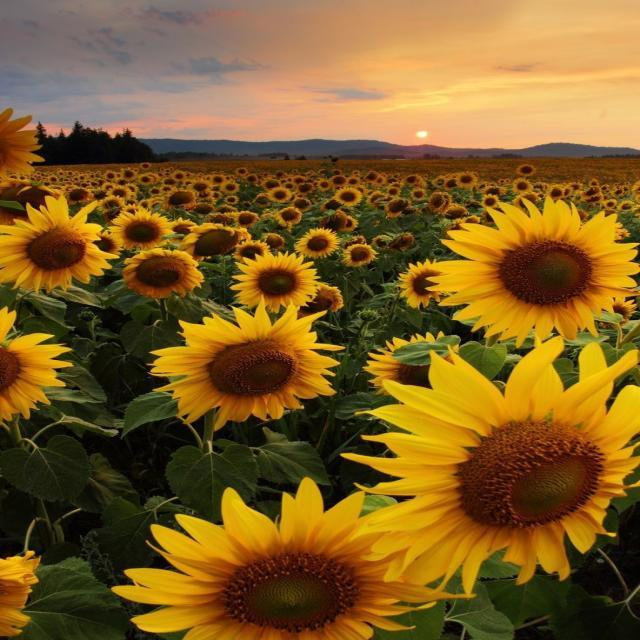sunflower: (339, 336, 639, 594), (110, 476, 477, 640), (425, 196, 638, 346), (146, 294, 345, 431), (0, 194, 119, 294), (0, 306, 73, 422), (362, 330, 460, 395), (228, 250, 320, 310), (120, 247, 204, 299), (0, 550, 41, 636), (0, 178, 66, 226), (0, 106, 44, 177), (108, 207, 176, 250), (179, 222, 251, 260), (394, 258, 447, 308), (294, 280, 344, 318), (293, 226, 339, 258), (596, 296, 638, 328), (232, 239, 270, 262), (340, 244, 378, 266), (162, 188, 196, 212), (168, 217, 198, 243), (332, 186, 362, 206), (275, 206, 302, 228), (95, 194, 126, 212), (323, 210, 348, 232), (512, 192, 542, 210), (64, 188, 95, 205), (442, 217, 466, 238), (233, 210, 259, 229), (384, 198, 408, 218), (106, 184, 134, 201), (390, 233, 415, 251), (480, 206, 505, 224), (454, 170, 479, 188), (266, 186, 291, 202), (263, 232, 285, 250), (187, 178, 214, 192), (511, 177, 533, 194), (206, 212, 232, 226), (426, 192, 444, 212), (342, 236, 365, 250), (320, 199, 344, 212), (342, 215, 359, 232), (444, 206, 468, 218), (191, 202, 213, 215), (120, 203, 146, 214), (292, 197, 311, 212), (372, 235, 392, 249), (516, 163, 536, 177), (254, 192, 272, 207), (482, 186, 506, 197), (366, 191, 386, 204), (614, 228, 632, 242), (374, 196, 392, 210), (294, 182, 312, 196), (330, 174, 348, 188), (219, 182, 240, 194), (194, 190, 215, 202), (581, 194, 605, 204), (262, 179, 282, 191), (481, 194, 498, 208), (443, 176, 460, 190), (548, 187, 566, 200), (208, 173, 226, 186), (213, 204, 238, 213), (409, 188, 426, 201), (600, 208, 618, 220), (617, 199, 635, 211), (316, 180, 334, 192), (120, 168, 138, 180), (364, 170, 380, 183), (171, 170, 188, 182), (581, 186, 601, 196), (138, 174, 154, 186), (432, 175, 447, 187), (138, 199, 153, 211), (160, 176, 178, 186), (206, 191, 222, 202), (124, 183, 140, 194), (403, 174, 420, 184), (574, 208, 588, 220), (372, 175, 386, 187), (602, 200, 618, 210), (223, 194, 239, 204), (401, 207, 418, 216), (462, 216, 480, 224), (348, 176, 360, 188), (48, 184, 64, 193), (386, 186, 400, 196), (532, 182, 546, 192), (102, 182, 116, 192), (561, 186, 572, 198), (246, 174, 259, 184), (632, 180, 640, 196), (148, 187, 162, 196), (568, 182, 583, 190), (291, 176, 306, 184), (309, 180, 321, 190), (147, 172, 159, 182), (610, 188, 624, 196), (414, 180, 428, 188), (282, 182, 296, 190), (161, 184, 175, 192), (105, 171, 116, 181), (476, 182, 488, 191), (148, 201, 160, 210), (276, 170, 288, 179), (139, 162, 152, 170), (384, 178, 400, 184), (236, 168, 248, 176), (388, 182, 402, 188), (589, 178, 599, 186), (535, 190, 545, 198), (241, 202, 254, 208), (61, 180, 72, 187), (95, 179, 106, 186), (48, 175, 58, 182), (183, 180, 192, 187), (602, 188, 612, 194), (332, 169, 342, 175), (278, 178, 288, 184), (79, 182, 89, 188), (7, 174, 18, 179), (78, 175, 87, 181), (487, 182, 497, 187), (162, 172, 172, 177), (600, 184, 608, 190), (504, 178, 512, 184), (392, 172, 400, 178), (72, 176, 80, 182), (291, 168, 299, 174), (42, 181, 51, 186), (634, 195, 640, 202), (352, 170, 359, 176), (34, 170, 41, 176), (92, 182, 99, 188), (367, 190, 375, 195), (305, 177, 313, 182), (284, 176, 292, 181), (66, 171, 74, 176), (498, 179, 505, 184), (58, 171, 64, 176), (29, 176, 36, 180), (19, 176, 26, 180)
